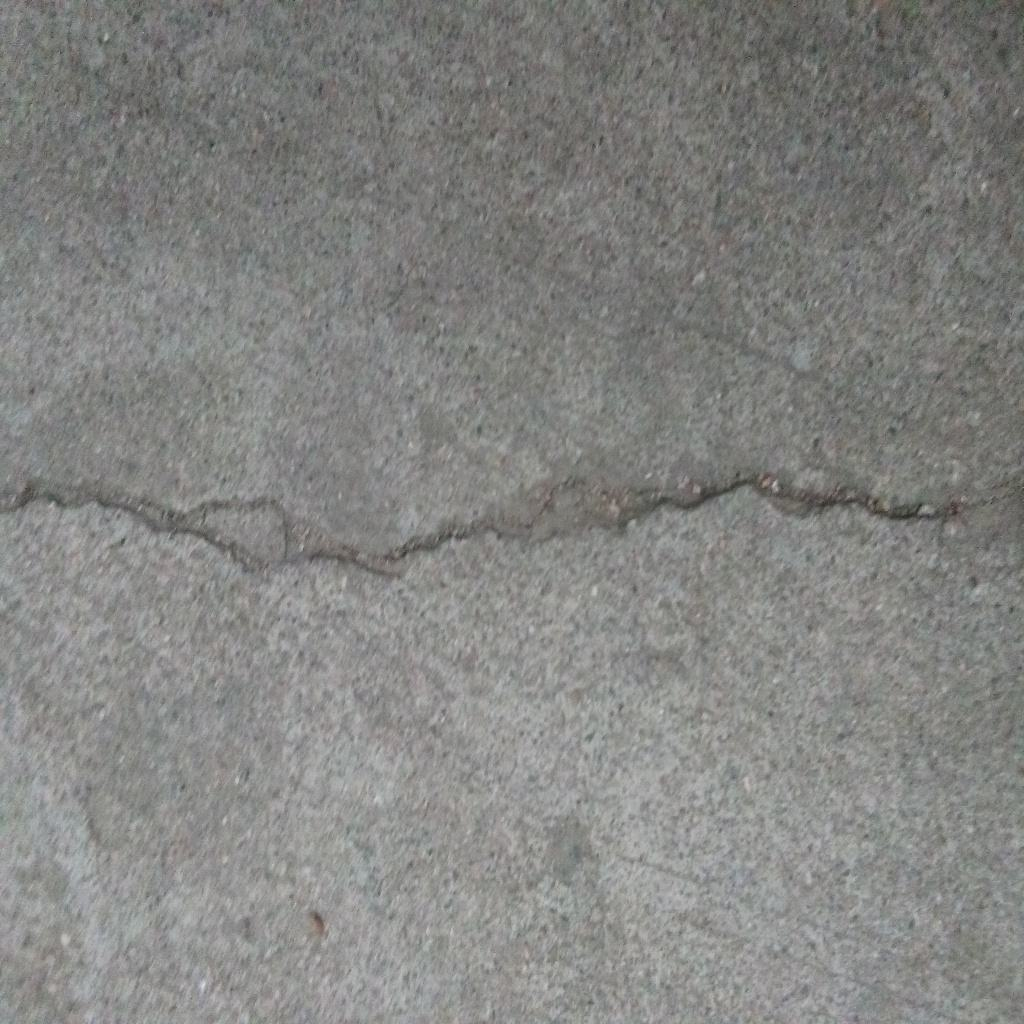Crack: (1, 478, 1024, 581)
